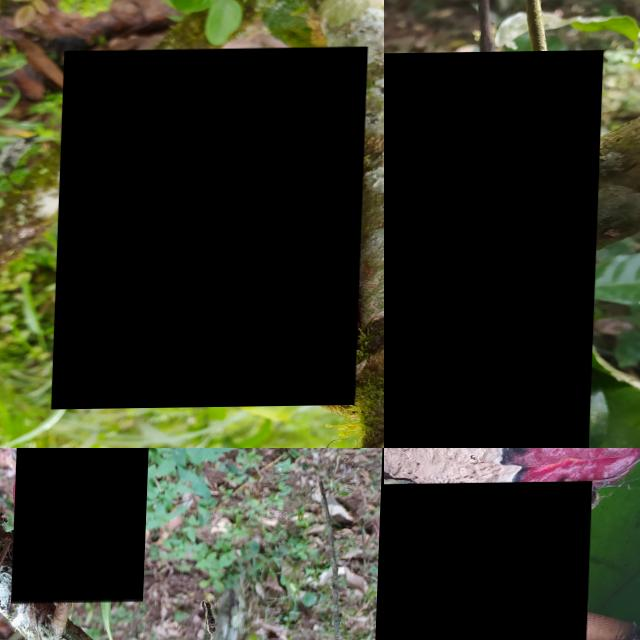Fitoftora: (55, 48, 368, 410)
Monilia: (384, 51, 604, 448), (15, 448, 159, 604), (384, 448, 640, 504)
Sana: (384, 482, 594, 640)
